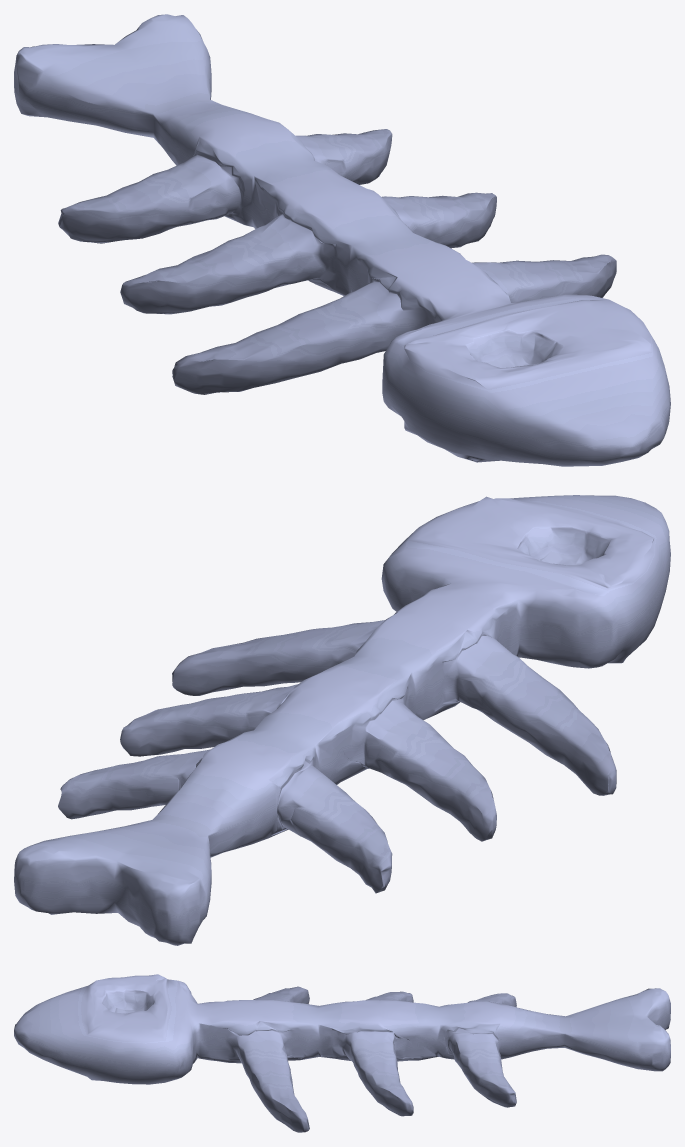
3 views of the same model, one above another, from view 1: azimuth 30°, elevation 25°; view 2: azimuth 150°, elevation 25°; view 3: azimuth 270°, elevation 25° (orthographic). The views are drawn at different scales.
Size of the model in its own units: 0.475 by 0.109 by 0.9995.
1 material, 1 textured.
